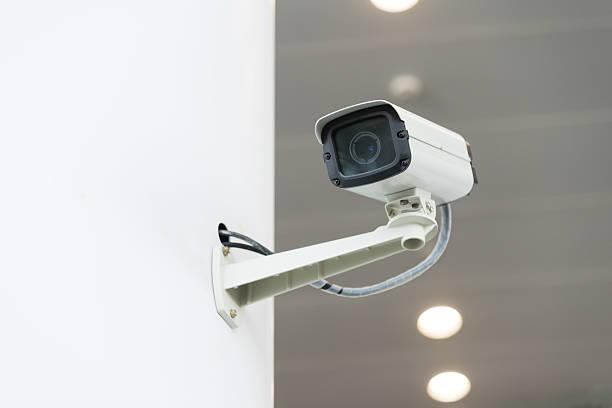camera: (297, 62, 507, 298)
